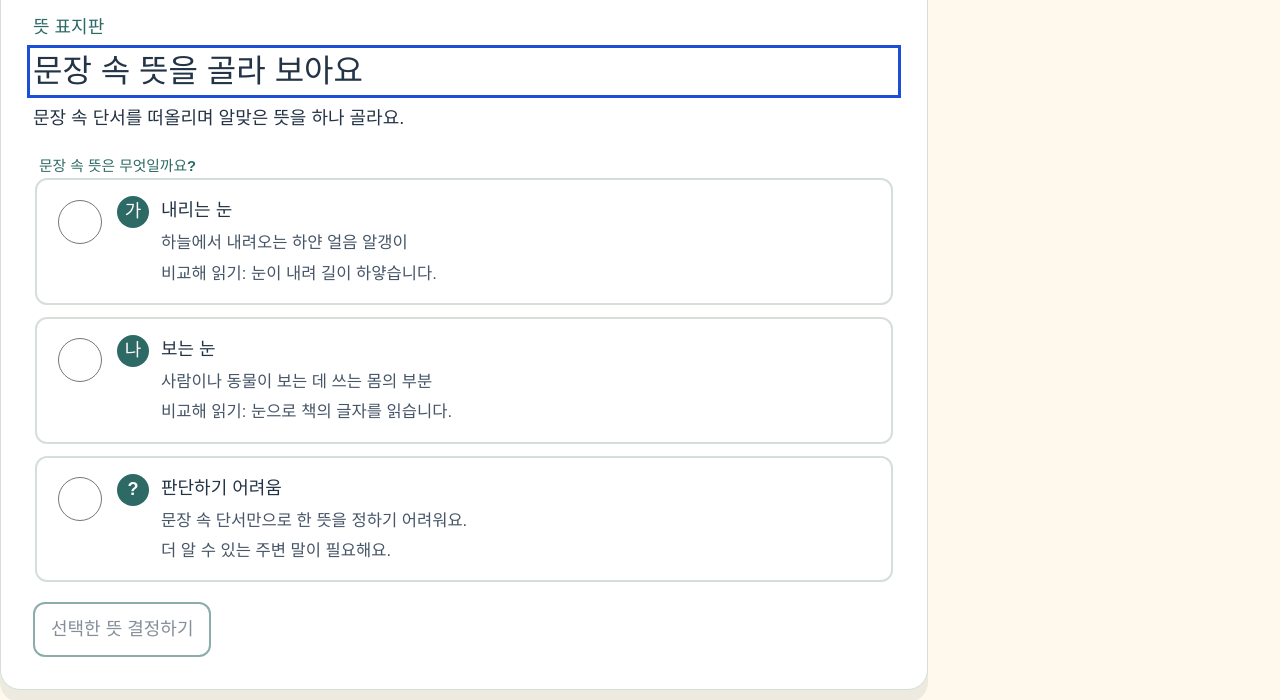
Scenario: MeaningSignpostScreen › shows non-live corrective comparison context after a submitted choice remains
Click the radio button labelled "나 보는 눈 사람이나 동물이 보는 데 쓰는 몸의 부분 비교해 읽기: 눈으로 책의 글자를 읽습니다.".
click(80, 360)  # box [58,338,102,382]
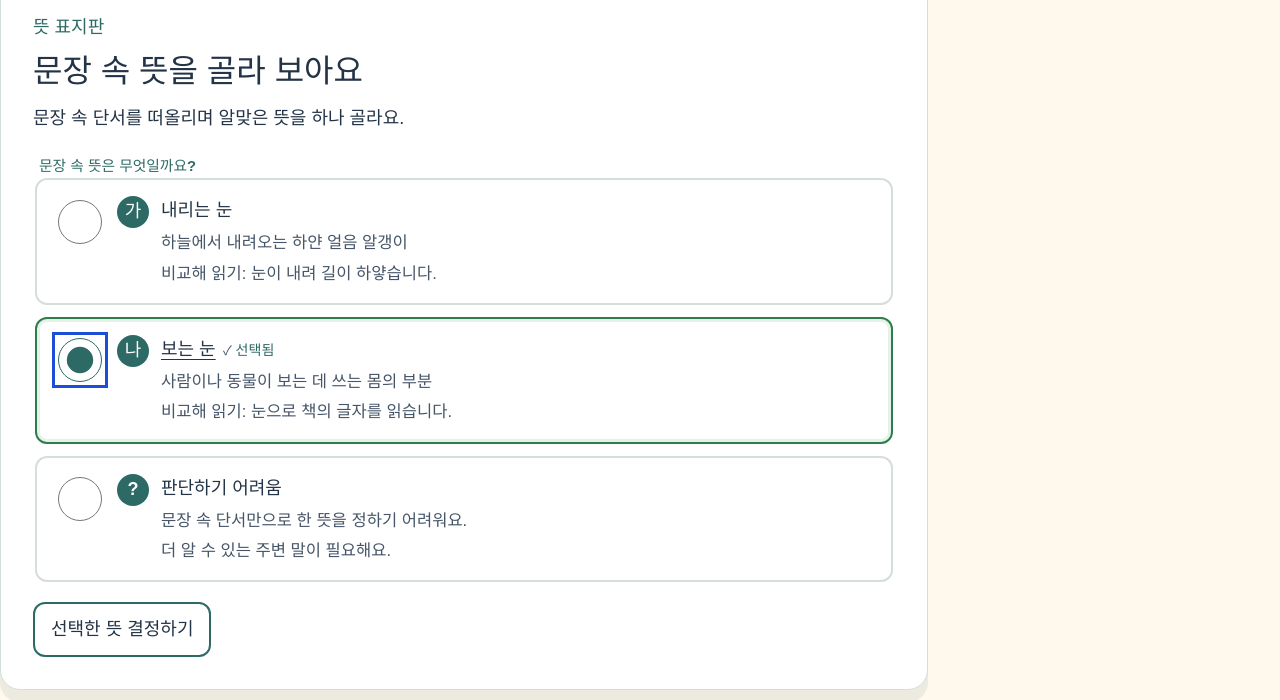
Click the button "선택한 뜻 결정하기".
click(122, 630)  # box [33,602,212,657]
(page scrolled)
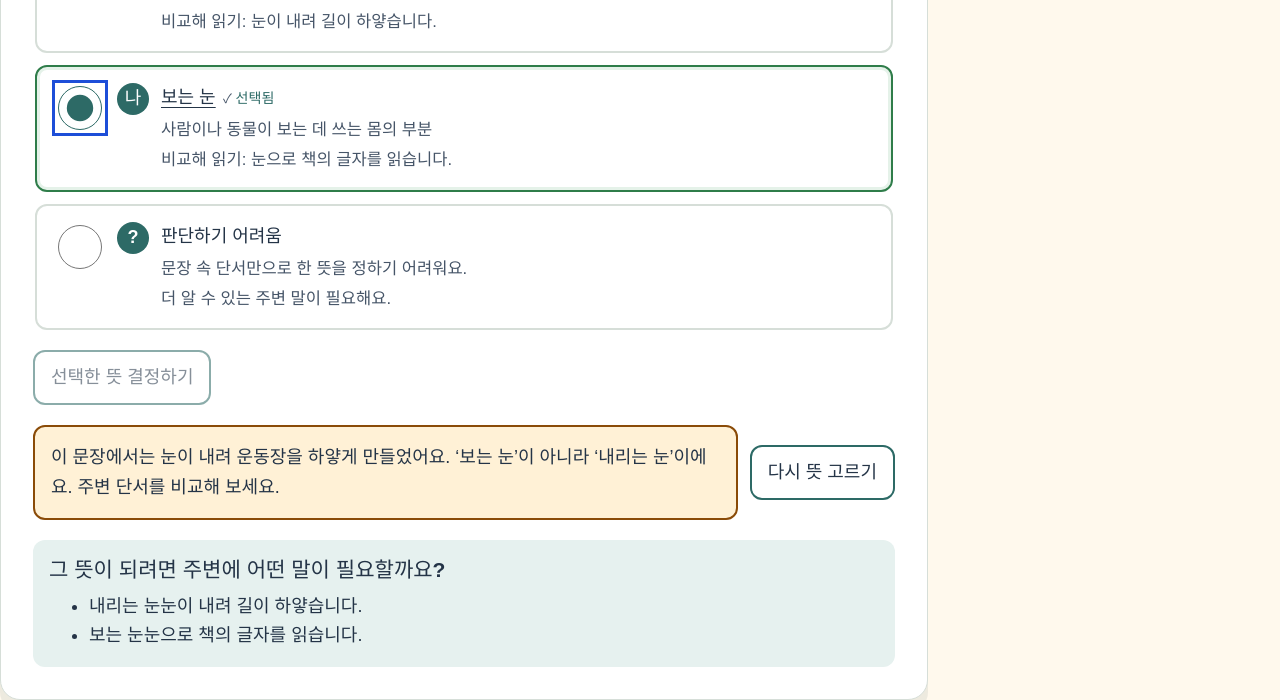
Now the heading "그 뜻이 되려면 주변에 어떤 말이 필요할까요?" is shown, box [49,558,446,581]
Now the text "이 문장에서는 눈이 내려 운동장을 하얗게 만들었어요. ‘보는 눈’이 아니라 ‘내리는 눈’이에요. 주변 단서를 비교해 보세요." is shown, box [51,443,720,502]
Now the text "눈으로 책의 글자를 읽습니다." is shown, box [144,625,362,645]
